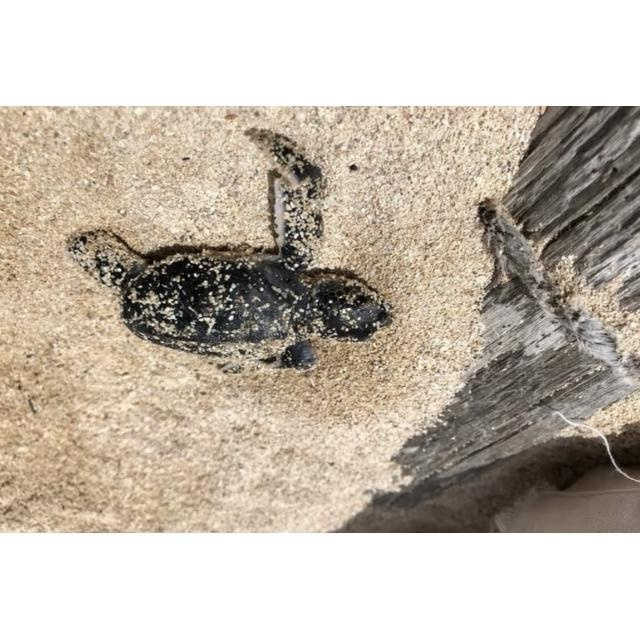turtle: (70, 131, 393, 370)
